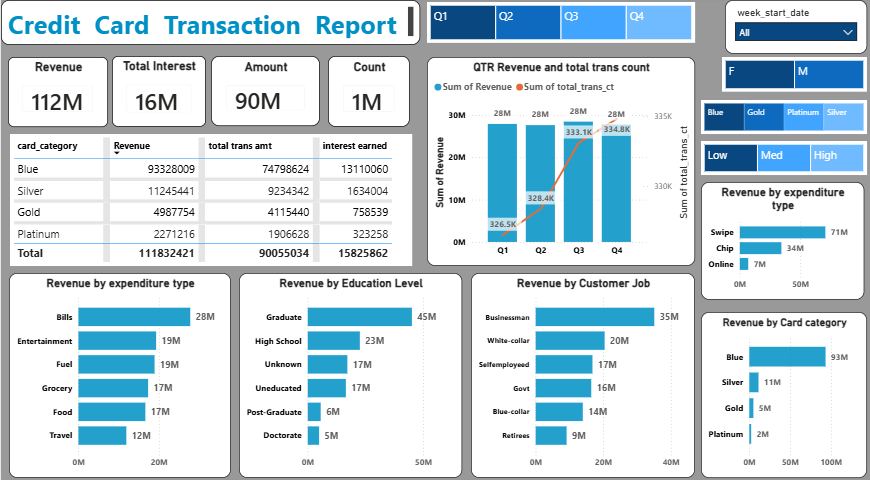

The page's visual inventory and layout, read from the dashboard file:
{"tool":"powerbi","page":{"name":"CC Transaction","canvas":[1280,720],"ordinal":1},"visuals":[{"type":"textbox","box":[0,5.9,615.7,66.1],"z":0},{"type":"lineStackedColumnComboChart","title":"QTR Revenue and total trans count","fields":{"Category":["public cc_detail.qtr"],"Y":["Sum(public cc_detail.Revenue)"],"Y2":["Sum(public cc_detail.total_trans_ct)"]},"box":[626,89.6,393.8,307.1],"z":1000},{"type":"barChart","title":" Revenue by expenditure type","fields":{"Y":["Sum(public cc_detail.Revenue)"],"Category":["public cc_detail.exp_type"]},"box":[11.8,407,326.2,301.2],"z":2000},{"type":"barChart","title":" Revenue by Education Level","fields":{"Y":["Sum(public cc_detail.Revenue)"],"Category":["public cust_detail.education_level"]},"box":[349.7,407,327.7,301.2],"z":3000},{"type":"barChart","title":" Revenue by Customer Job","fields":{"Y":["Sum(public cc_detail.Revenue)"],"Category":["public cust_detail.customer_job"]},"box":[690.6,407,329.1,301.2],"z":4000},{"type":"barChart","title":" Revenue by Card category","fields":{"Y":["Sum(public cc_detail.Revenue)"],"Category":["public cc_detail.card_category"]},"box":[1028.6,464.3,243.9,243.9],"z":5000},{"type":"barChart","title":" Revenue by expenditure type","fields":{"Y":["Sum(public cc_detail.Revenue)"],"Category":["public cc_detail.use_chip"]},"box":[1028.6,273.3,239.5,173.4],"z":6000},{"type":"tableEx","fields":{"Values":["public cc_detail.card_category","Sum(public cc_detail.Revenue)","Sum(public cc_detail.total_trans_amt)","Sum(public cc_detail.interest_earned)"]},"box":[13.2,202.8,590.7,194],"z":7000},{"type":"cardVisual","title":"Revenue","fields":{"Data":["Sum(public cc_detail.Revenue)"]},"box":[10.3,89.6,146.9,102.9],"z":8000},{"type":"cardVisual","title":"Total Interest","fields":{"Data":["Sum(public cc_detail.interest_earned)"]},"box":[163.1,88.2,138.1,104.3],"z":9000},{"type":"cardVisual","title":"Amount","fields":{"Data":["Sum(public cc_detail.total_trans_amt)"]},"box":[308.6,88.2,160.2,102.9],"z":10000},{"type":"cardVisual","title":"Count","fields":{"Data":["Sum(public cc_detail.total_trans_ct)"]},"box":[480.5,88.2,120.5,104.3],"z":11000},{"type":"slicer","fields":{"Values":["public cc_detail.week_start_date"]},"box":[1063.8,5.9,208.7,79.3],"z":12000},{"type":"treemap","fields":{"Group":["public cc_detail.qtr"],"Values":["Avg(public cust_detail.client_num)"]},"box":[626,8.8,393.8,60.2],"z":13000},{"type":"treemap","fields":{"Group":["public cust_detail.gender"],"Values":["Avg(public cust_detail.client_num)"]},"box":[1059.4,89.6,213.1,51.4],"z":14000},{"type":"treemap","fields":{"Group":["public cc_detail.card_category"],"Values":["Avg(public cust_detail.client_num)"],"Details":["public cc_detail.card_category"]},"box":[1028.6,152.8,243.9,50],"z":15000},{"type":"treemap","fields":{"Group":["public cust_detail.IncomeGroup"],"Values":["Avg(public cust_detail.client_num)"]},"box":[1028.6,213.1,243.9,50],"z":16000}]}

Visuals, with their boxes in screenshot pixels (x1, y1, x2, y2), scaled from the page's 1280x720 canvas onto the 870x480 screenshot:
textbox: 0 4 418 48
"QTR Revenue and total trans count" lineStackedColumnComboChart: 425 60 693 264
" Revenue by expenditure type" barChart: 8 271 230 472
" Revenue by Education Level" barChart: 238 271 460 472
" Revenue by Customer Job" barChart: 469 271 693 472
" Revenue by Card category" barChart: 699 310 865 472
" Revenue by expenditure type" barChart: 699 182 862 298
tableEx - public cc_detail.card_category x Sum(public cc_detail.Revenue): 9 135 410 265
"Revenue" cardVisual: 7 60 107 128
"Total Interest" cardVisual: 111 59 205 128
"Amount" cardVisual: 210 59 319 127
"Count" cardVisual: 327 59 408 128
slicer - public cc_detail.week_start_date: 723 4 865 57
treemap - public cc_detail.qtr x Avg(public cust_detail.client_num): 425 6 693 46
treemap - public cust_detail.gender x Avg(public cust_detail.client_num): 720 60 865 94
treemap - public cc_detail.card_category x Avg(public cust_detail.client_num): 699 102 865 135
treemap - public cust_detail.IncomeGroup x Avg(public cust_detail.client_num): 699 142 865 175
